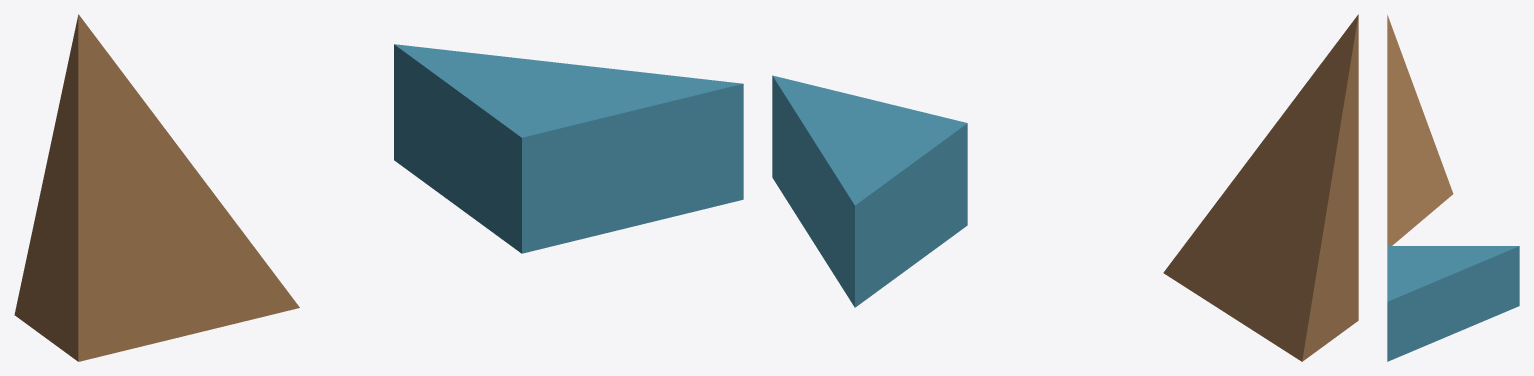
File: asset.glb
3 views of the same model, side by side, from view 1: azimuth 30°, elevation 25°; view 2: azimuth 150°, elevation 25°; view 3: azimuth 270°, elevation 25° (orthographic). The views are drawn at different scales.
Visible parts, largest first — view 1: SW_27177831fade_wedge, SW_27177831fade_tetra; view 2: SW_27177831fade_tetra, SW_27177831fade_wedge; view 3: SW_27177831fade_wedge, SW_27177831fade_tetra.
Part boxes in pixels (<box>): SW_27177831fade_wedge: <box>394,44,743,253</box>; SW_27177831fade_tetra: <box>14,14,299,361</box>; SW_27177831fade_tetra: <box>1163,14,1358,361</box>; SW_27177831fade_wedge: <box>772,75,967,307</box>; SW_27177831fade_wedge: <box>1387,246,1519,361</box>; SW_27177831fade_tetra: <box>1387,15,1453,245</box>.
Size of the model in its own units: 6 by 3 by 2.
